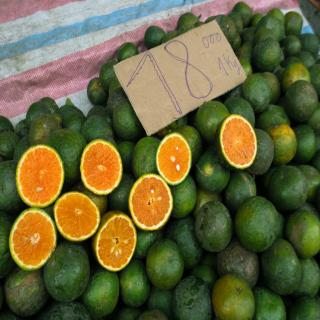Lemon: (88, 1, 320, 143), (176, 144, 320, 318), (0, 231, 178, 319), (0, 96, 91, 186), (7, 206, 57, 272), (14, 146, 66, 207), (127, 172, 173, 230), (78, 140, 124, 196), (214, 116, 259, 172), (94, 211, 135, 270), (54, 190, 100, 240), (156, 131, 192, 187)
Orange: (16, 146, 66, 208), (43, 245, 93, 301), (128, 172, 176, 228), (51, 190, 101, 242), (92, 214, 136, 272), (10, 213, 55, 269), (82, 136, 123, 197), (192, 198, 235, 250), (237, 195, 276, 252), (218, 114, 255, 173), (170, 270, 212, 319), (156, 132, 194, 186), (143, 237, 184, 287), (262, 235, 296, 294), (84, 267, 120, 319), (211, 276, 253, 320), (267, 166, 309, 210), (51, 125, 81, 183), (168, 216, 198, 272), (289, 203, 320, 256), (5, 271, 42, 315), (220, 242, 257, 280), (253, 285, 288, 320), (285, 82, 314, 123), (113, 101, 141, 142), (267, 126, 296, 165), (250, 124, 274, 171), (123, 262, 147, 306), (294, 122, 320, 162), (130, 134, 156, 171), (82, 114, 114, 144), (288, 291, 320, 320), (258, 100, 286, 132), (252, 37, 278, 70), (0, 160, 16, 208), (0, 214, 14, 268), (42, 302, 80, 320), (282, 61, 307, 87), (298, 255, 316, 291), (302, 166, 320, 200), (286, 10, 304, 35), (280, 35, 302, 55), (302, 35, 320, 57), (312, 64, 320, 96), (299, 52, 314, 67)
